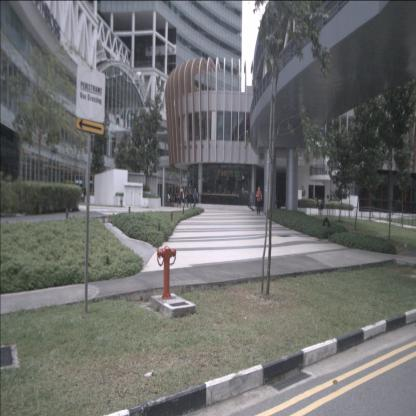human-pedestrian-adult: (256, 186, 262, 214), (192, 188, 198, 208), (179, 185, 184, 208), (187, 188, 192, 208), (183, 191, 188, 208), (176, 190, 180, 208), (83, 187, 87, 203), (81, 189, 84, 202), (168, 192, 170, 206), (172, 192, 174, 206)
